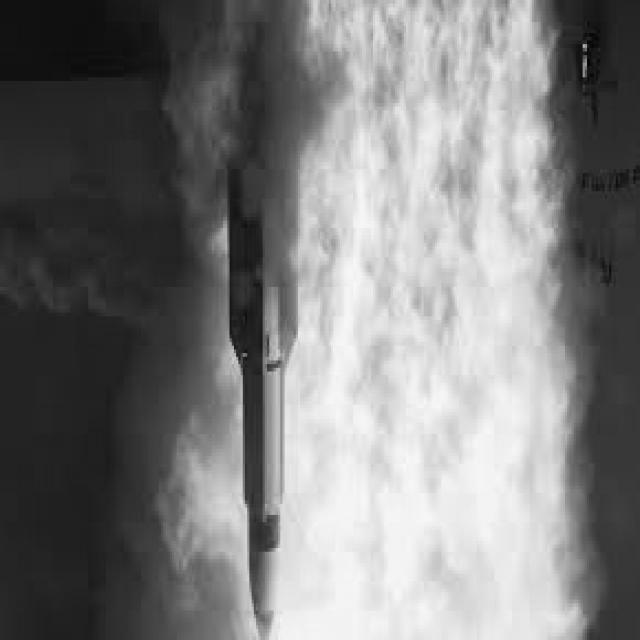Missile: (223, 200, 298, 631)
